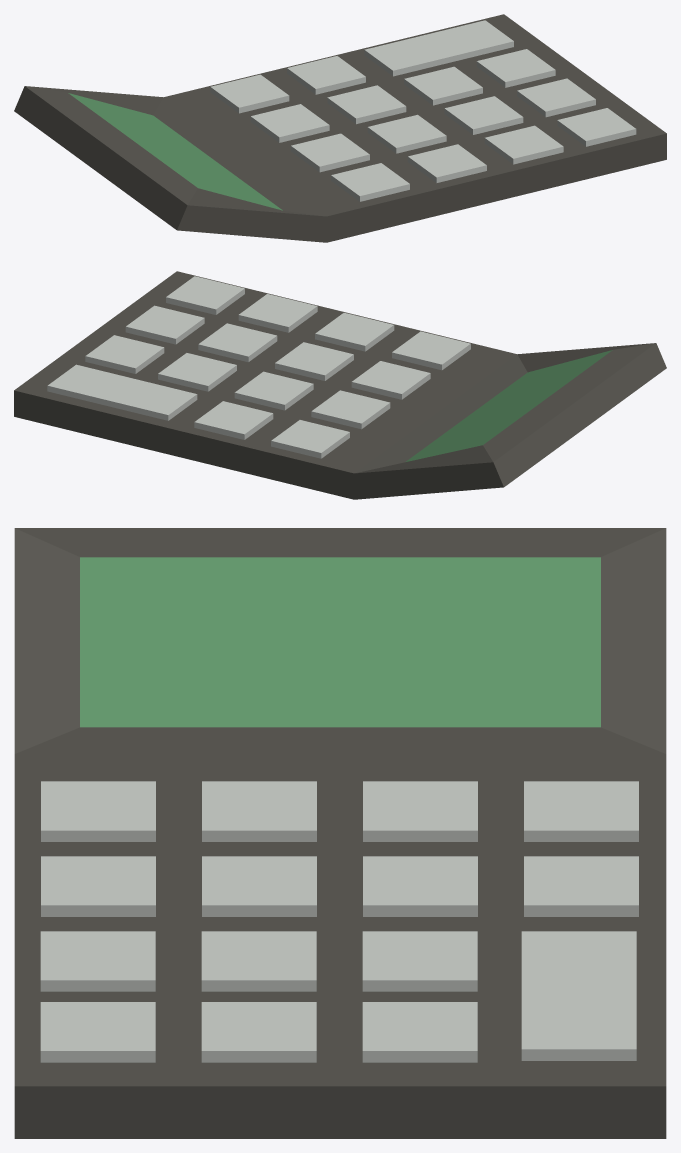
File: calculator.fbx
3 renders of one model, top to bottom at view 1: azimuth 30°, elevation 25°; view 2: azimuth 150°, elevation 25°; view 3: azimuth 270°, elevation 25°, orthographic. The views are drawn at different scales.
Visible parts, largest first — view 1: Cube; view 2: Cube; view 3: Cube.
Boxes of the visible parts, x1,y1,x2,y2 form: Cube: (14, 14, 666, 242); Cube: (14, 271, 666, 499); Cube: (14, 528, 666, 1138).
Size of the model in its own units: 195 by 27.23 by 113.
